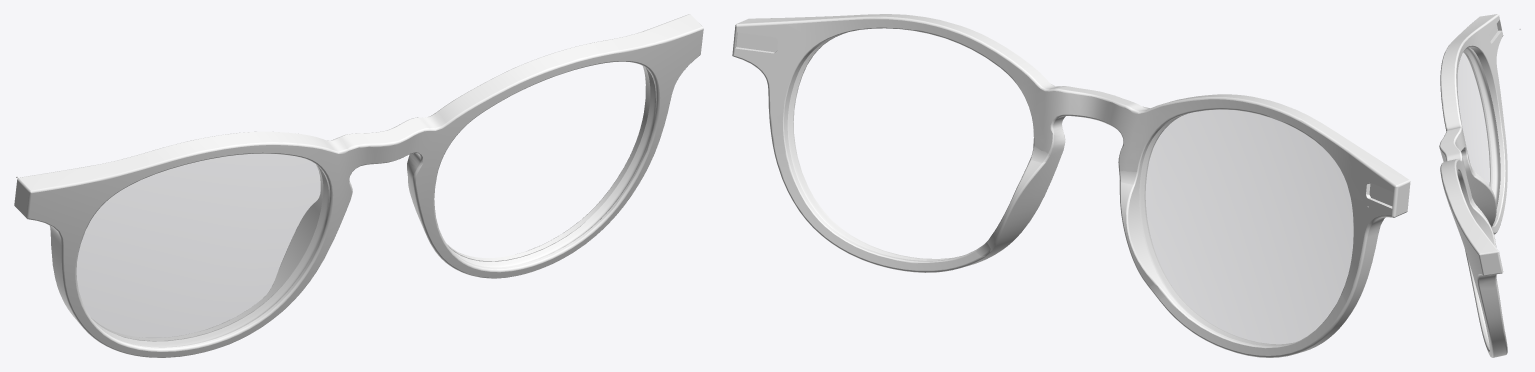
3 renders of one model, left to right at view 1: azimuth 30°, elevation 25°; view 2: azimuth 150°, elevation 25°; view 3: azimuth 270°, elevation 25°, orthographic. The views are drawn at different scales.
Parts seen in each view (by area): view 1: FRONTALE, LENTE_DX; view 2: FRONTALE, LENTE_DX; view 3: FRONTALE, LENTE_DX.
Boxes of the visible parts, x1,y1,x2,y2 form: FRONTALE: (14, 14, 703, 357); LENTE_DX: (77, 154, 328, 347); FRONTALE: (732, 14, 1410, 357); LENTE_DX: (1139, 110, 1353, 345); FRONTALE: (1439, 14, 1507, 357); LENTE_DX: (1458, 48, 1499, 205).
Bounding box in the file's own units: 1.36 × 0.4512 × 0.1964.
Materials: 3 (1 with a texture image).
